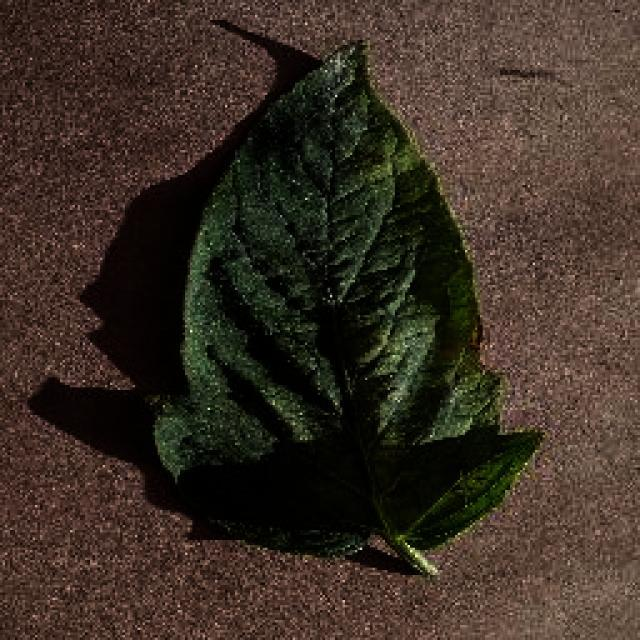Tomato spider mites leaf: (143, 38, 545, 560)
